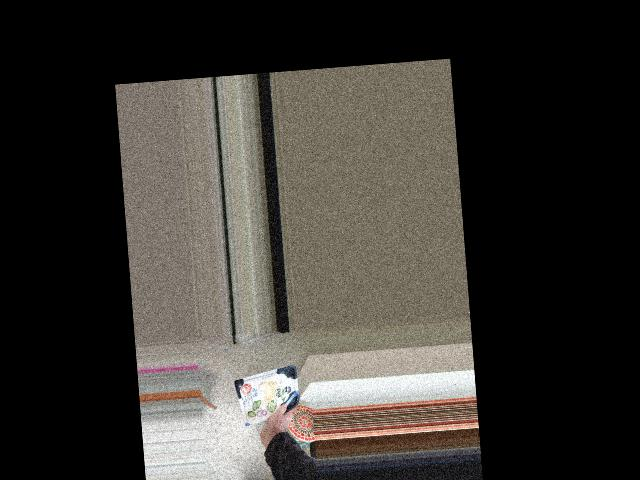cheese: (240, 382, 291, 435)
